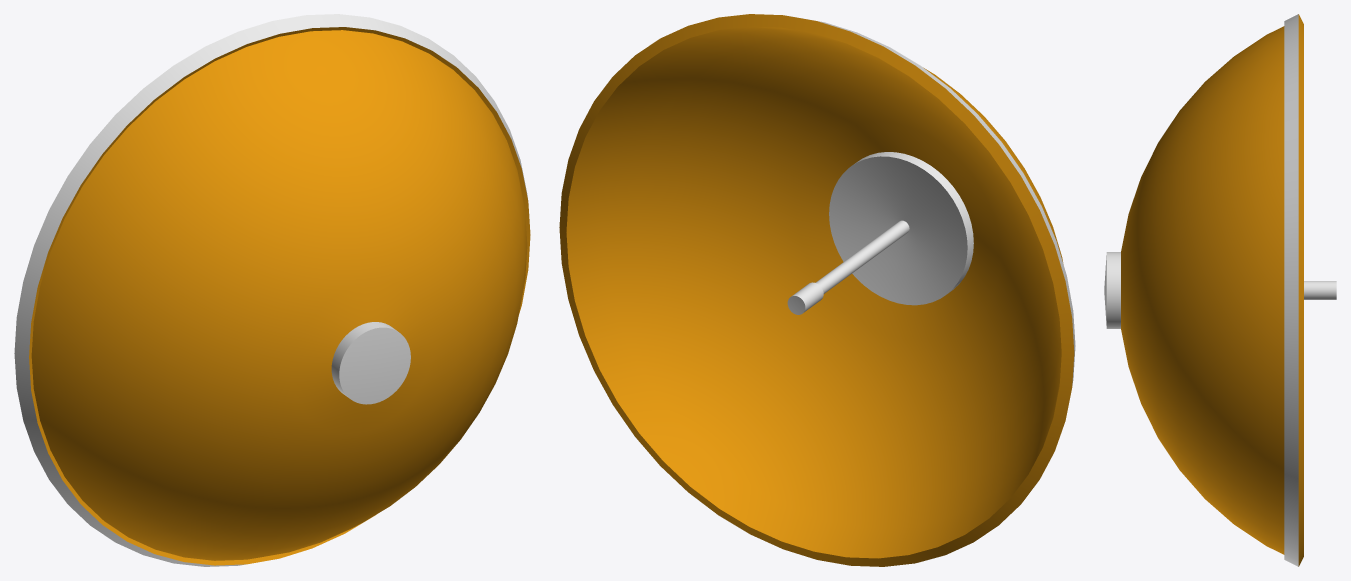
3 renders of one model, left to right at view 1: azimuth 30°, elevation 25°; view 2: azimuth 150°, elevation 25°; view 3: azimuth 270°, elevation 25°, orthographic. The views are drawn at different scales.
Visible parts, largest first — view 1: Sphere; view 2: Sphere; view 3: Sphere.
Boxes of the visible parts, left/top/right/bottom form: Sphere: left=14, top=14, right=530, bottom=566; Sphere: left=559, top=14, right=1075, bottom=566; Sphere: left=1104, top=14, right=1336, bottom=566.
Size of the model in its own units: 1.87 by 1.87 by 0.7877.
